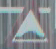Speed Breaker ahead: (4, 3, 52, 47)
